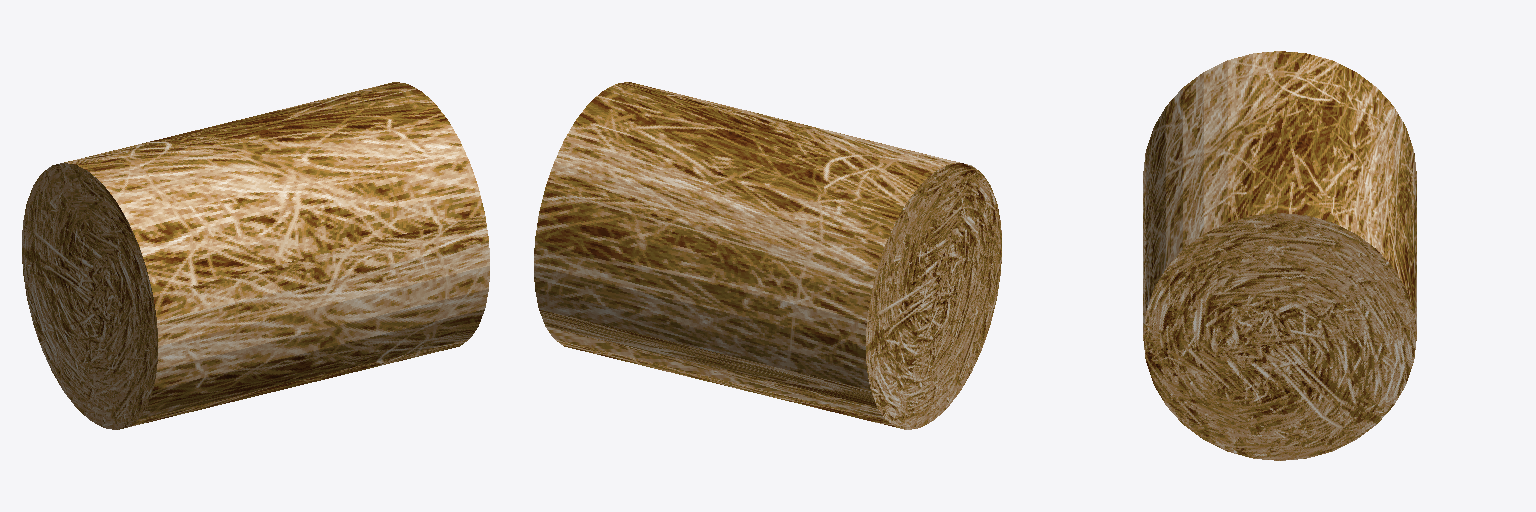
The picture shows the model from 3 angles: view 1: azimuth 30°, elevation 25°; view 2: azimuth 150°, elevation 25°; view 3: azimuth 270°, elevation 25°; orthographic projection.
Bounding box in the file's own units: 2.8 × 2 × 2.
1 materials, 1 textured.